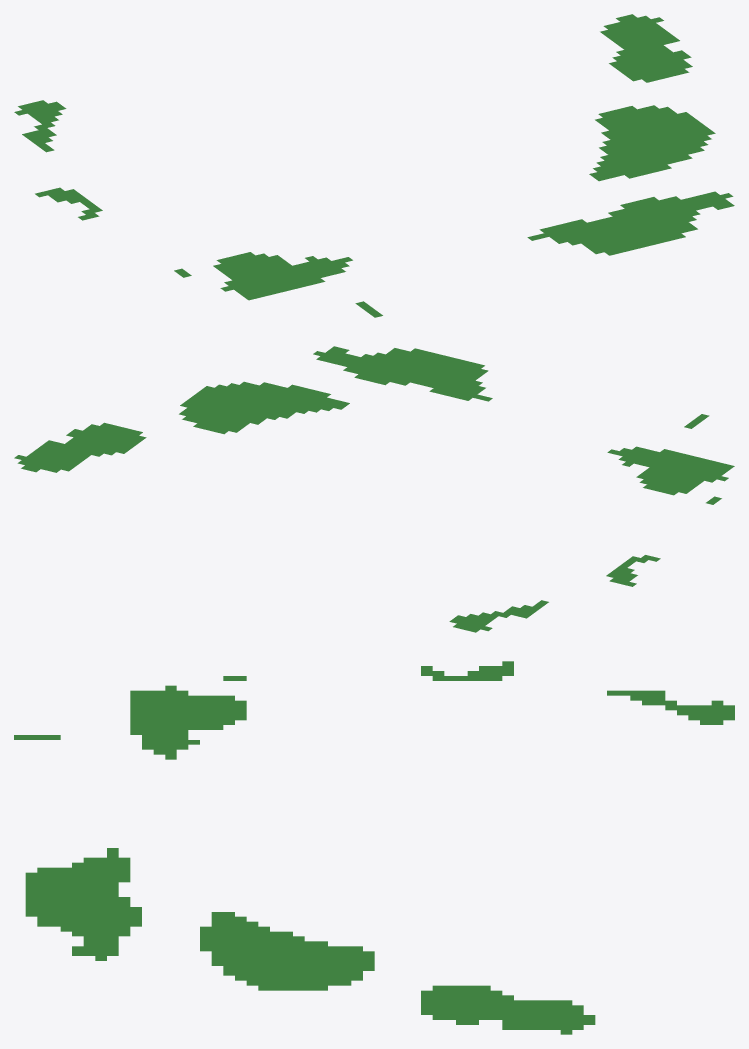
File: Isl-start5-TreesArea.fbx
The picture shows the model from 3 angles, top to bottom: view 1: azimuth 30°, elevation 25°; view 2: azimuth 150°, elevation 25°; view 3: azimuth 270°, elevation 25°; orthographic projection. The views are drawn at different scales.
Parts seen in each view (by area): view 1: Isl-start5-TreesArea; view 2: Isl-start5-TreesArea; view 3: Isl-start5-TreesArea.
Part boxes in pixels (<box>): Isl-start5-TreesArea: <box>14,14,734,317</box>; Isl-start5-TreesArea: <box>14,346,734,632</box>; Isl-start5-TreesArea: <box>14,661,734,1034</box>.
Size of the model in its own units: 76 by 0 by 62.
